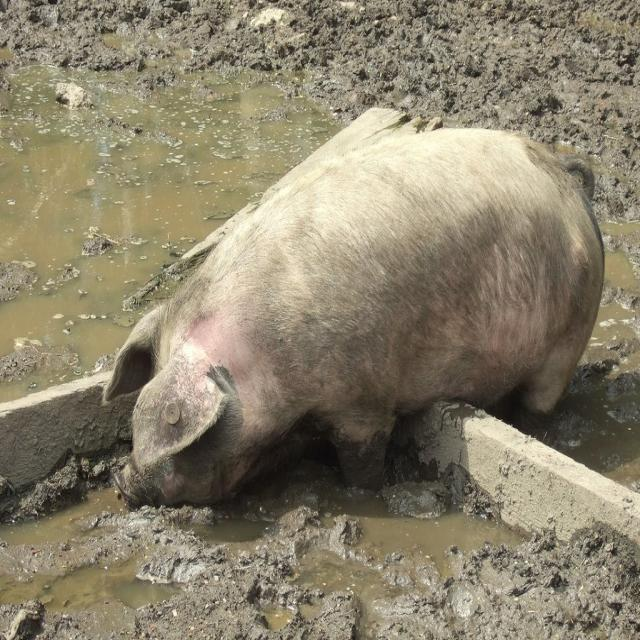Pig: (102, 117, 606, 510)
